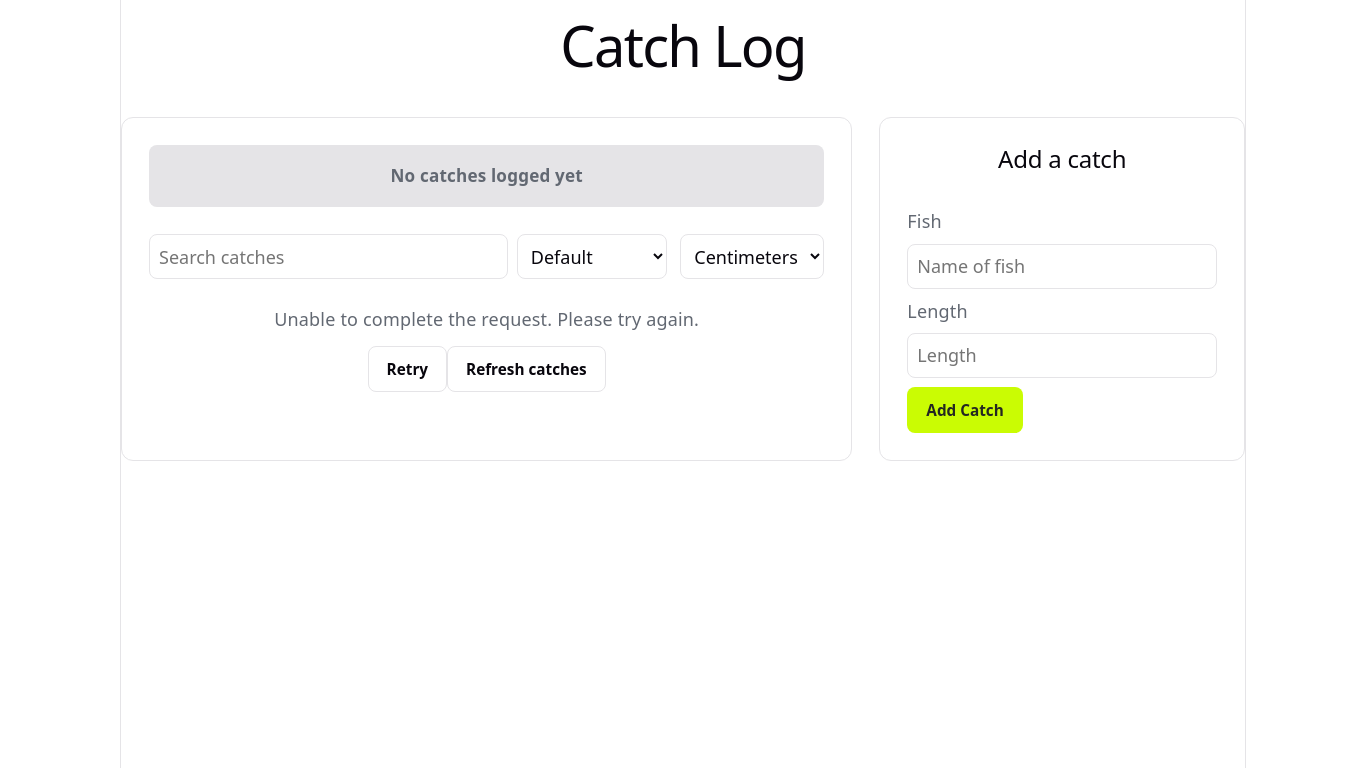
Test: retries loading catches after a failed request
Step 1. Click the button "Retry" → (407, 369), box top-left (368, 346), bottom-right (447, 392)
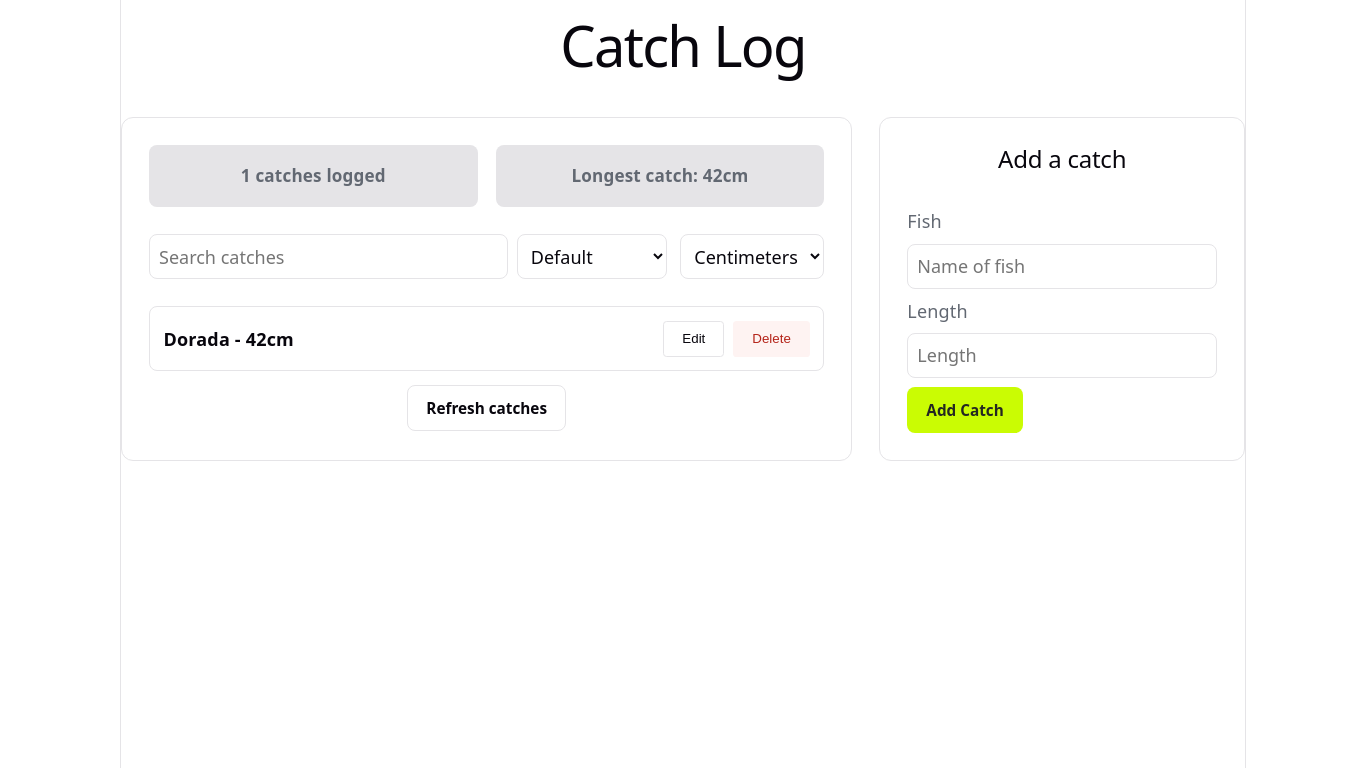
Now the link "Dorada" is shown, box top-left (164, 327), bottom-right (230, 351)
Now the message "Unable to complete the request. Please try again." is gone
